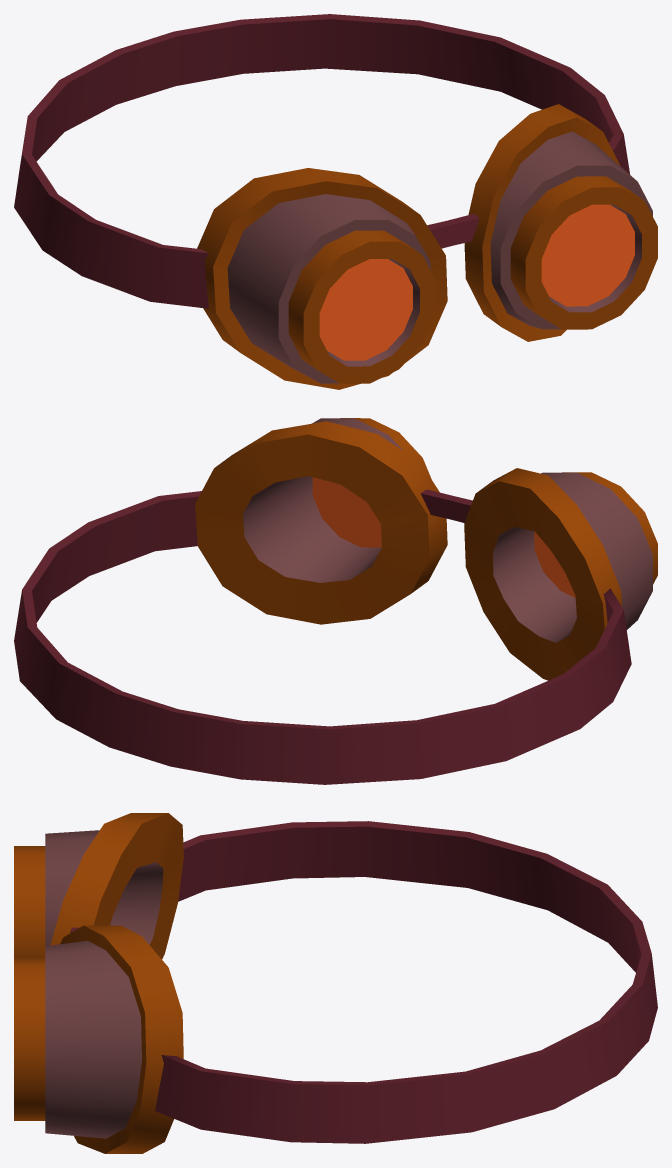
Rendered from Glasses_08.fbx.
The picture shows the model from 3 angles, top to bottom: view 1: azimuth 30°, elevation 25°; view 2: azimuth 150°, elevation 25°; view 3: azimuth 270°, elevation 25°; orthographic projection. The views are drawn at different scales.
Parts seen in each view (by area): view 1: Glasses_08.c, Glasses_08; view 2: Glasses_08.c, Glasses_08; view 3: Glasses_08, Glasses_08.c.
Part boxes in pixels (left/top/right/bottom): Glasses_08.c: left=197, top=104, right=657, bottom=389; Glasses_08: left=14, top=14, right=630, bottom=308; Glasses_08.c: left=195, top=418, right=657, bottom=680; Glasses_08: left=14, top=491, right=631, bottom=784; Glasses_08: left=154, top=821, right=657, bottom=1143; Glasses_08.c: left=14, top=813, right=183, bottom=1153.
Bounding box in the file's own units: 0.6835 × 0.2423 × 0.683.
